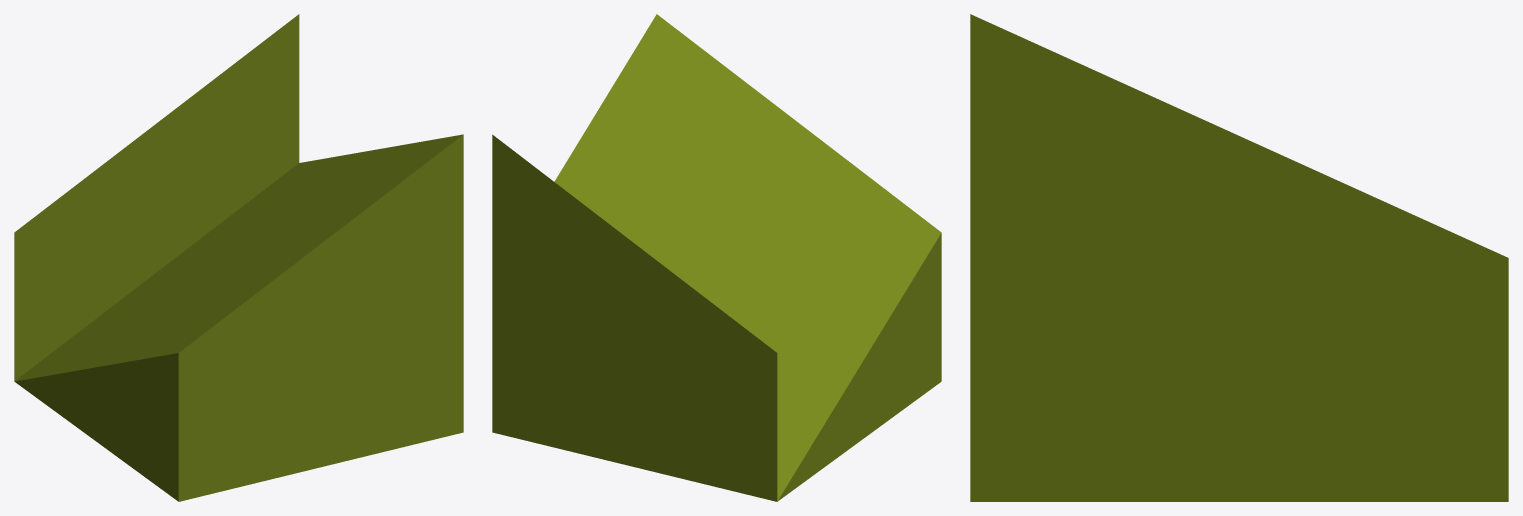
File: Grass_Corner.glb
The picture shows the model from 3 angles, left to right: view 1: azimuth 30°, elevation 25°; view 2: azimuth 150°, elevation 25°; view 3: azimuth 270°, elevation 25°; orthographic projection. The views are drawn at different scales.
Parts seen in each view (by area): view 1: Grass_Corner_body; view 2: Grass_Corner_body; view 3: Grass_Corner_body.
Part boxes in pixels (x1,y1,x2,y2): Grass_Corner_body: [14, 14, 463, 501]; Grass_Corner_body: [492, 14, 941, 501]; Grass_Corner_body: [970, 14, 1508, 501].
Bounding box in the file's own units: 1 × 1 × 1.
Materials: 1 (1 with a texture image).
